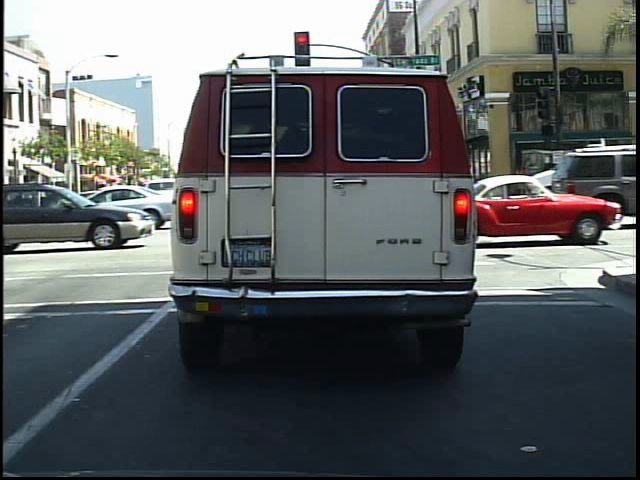person: (591, 142, 615, 209), (538, 152, 562, 210), (513, 156, 535, 207)
